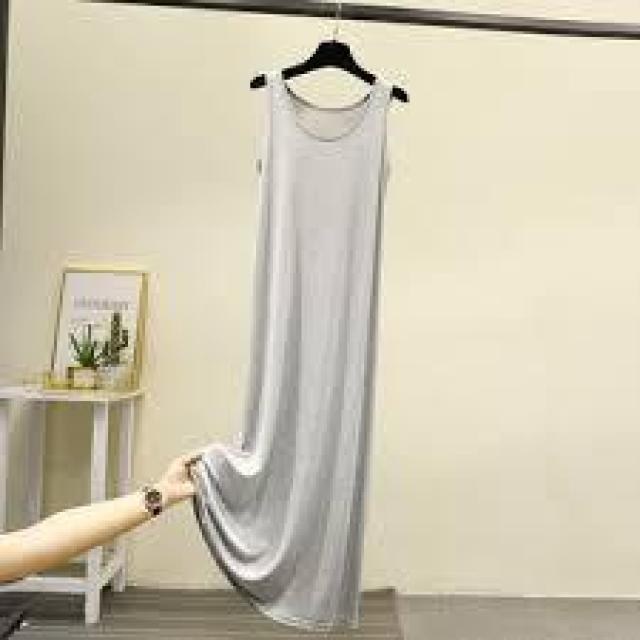dress: (217, 61, 396, 630)
